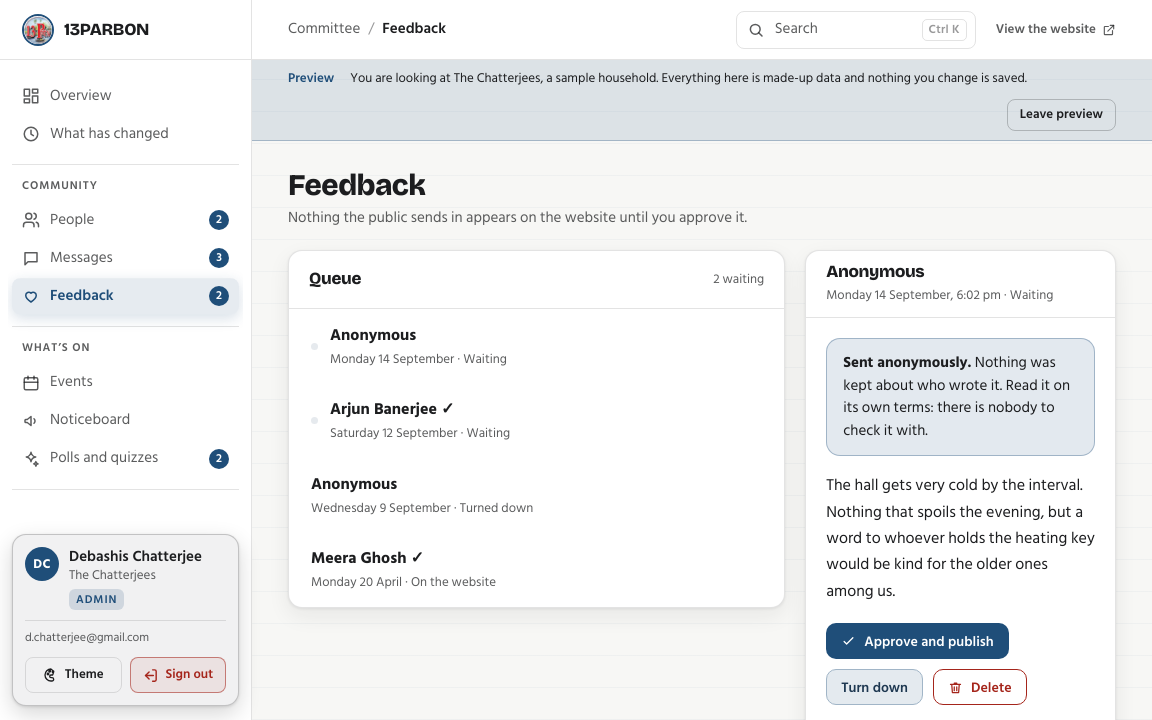
Test case: deleting a piece › asks first, and says it is for what should not be held at all
Expected: the heading "Feedback" is shown, [288, 166, 425, 202]
Click the button "Delete" at (980, 687), box [933, 669, 1027, 705]
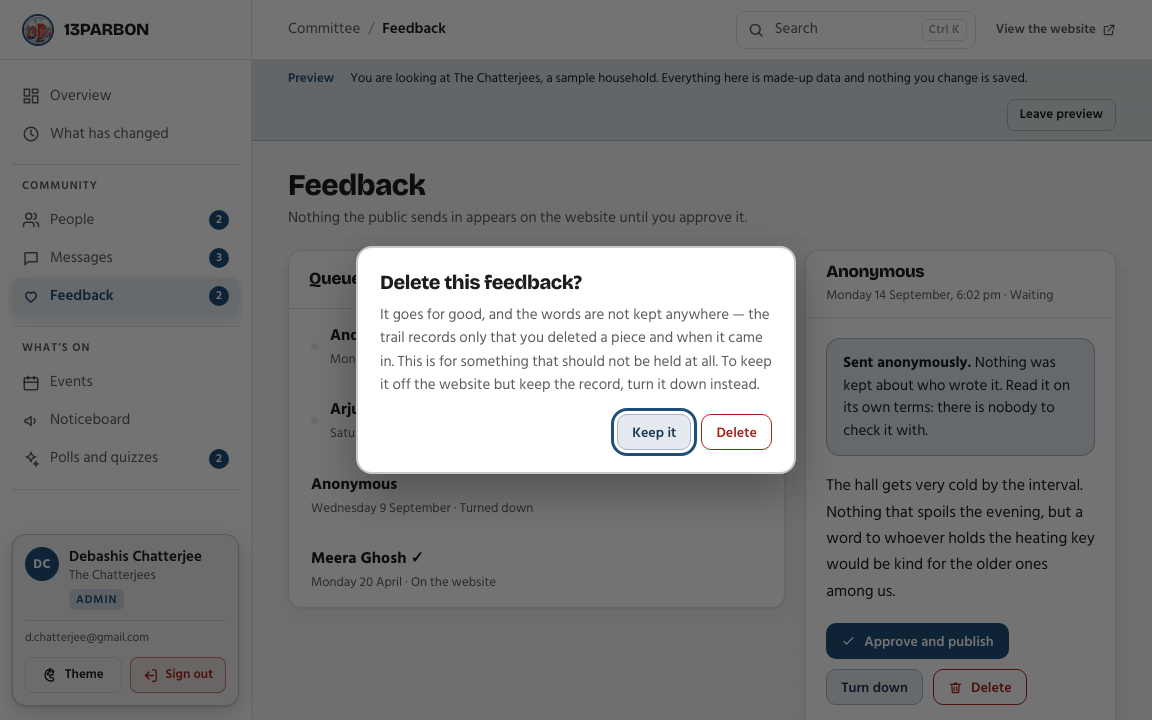
Now the dialog shows "should not be held at all", box [380, 302, 772, 397]
Now the dialog shows "turn it down instead", box [380, 302, 772, 397]
Click the button "Keep it" at (654, 432), box [617, 414, 691, 450]
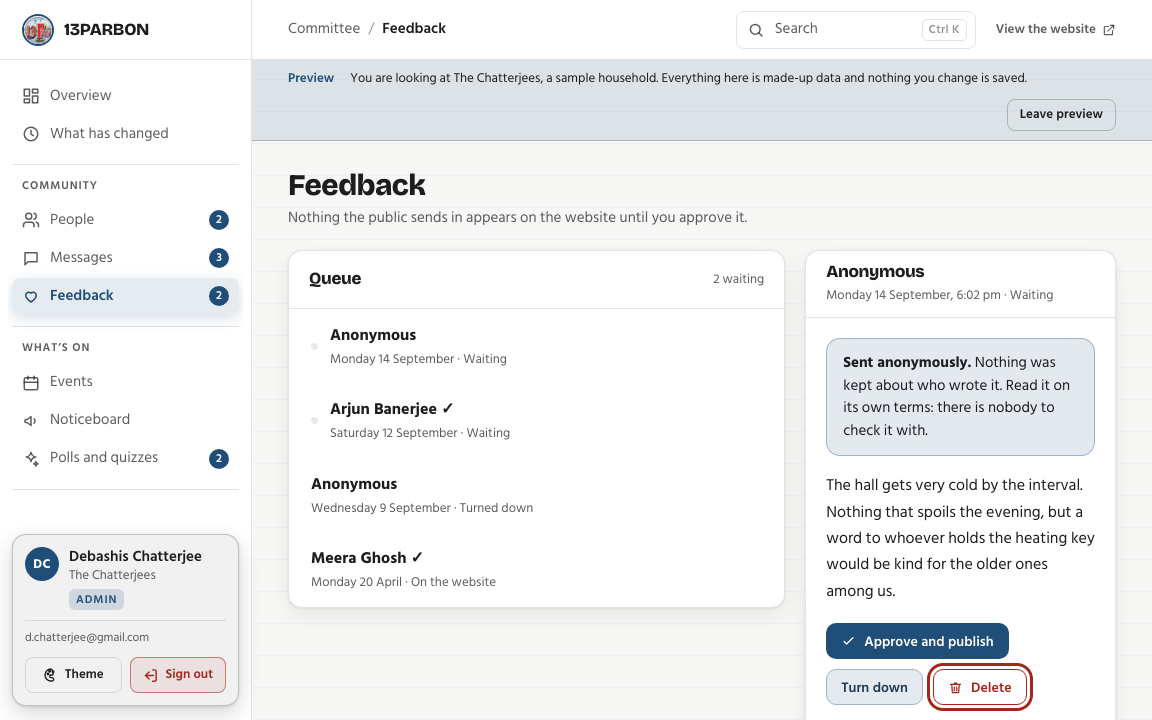
Now the dialog is gone
